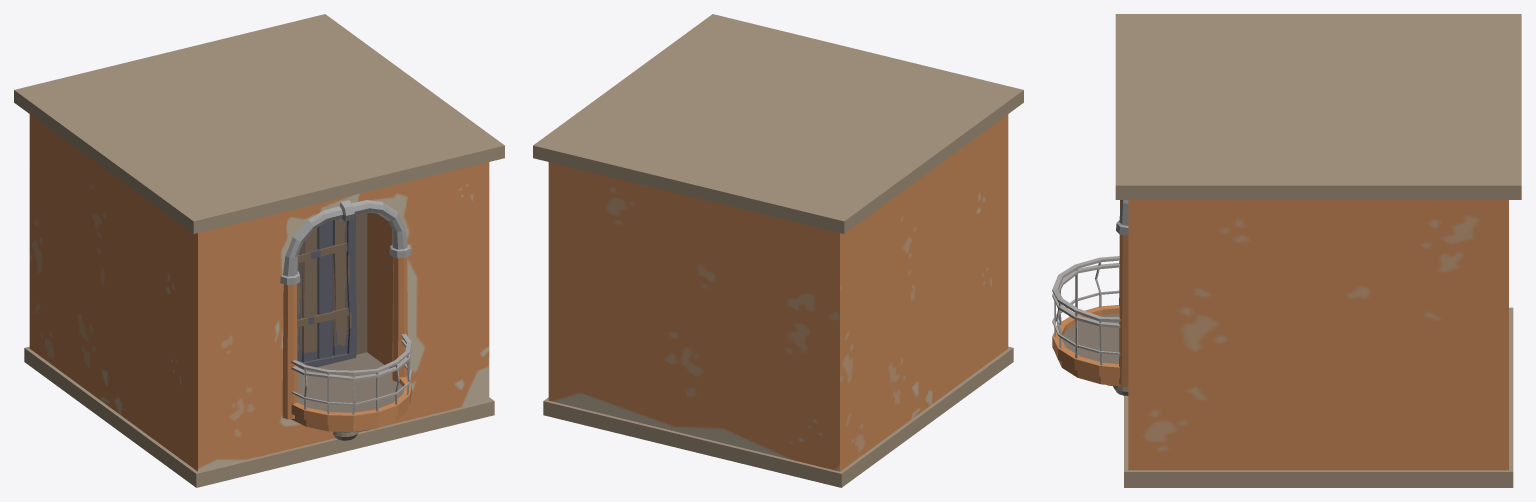
Rendered from SM_Bld_Cuba_Room_02.glb.
3 renders of one model, left to right at view 1: azimuth 30°, elevation 25°; view 2: azimuth 150°, elevation 25°; view 3: azimuth 270°, elevation 25°, orthographic. The views are drawn at different scales.
Visible parts, largest first — view 1: SM_Bld_Cuba_Room_02_part00; view 2: SM_Bld_Cuba_Room_02_part00; view 3: SM_Bld_Cuba_Room_02_part00.
Part boxes in pixels (left/top/right/bottom): SM_Bld_Cuba_Room_02_part00: left=14, top=14, right=504, bottom=487; SM_Bld_Cuba_Room_02_part00: left=533, top=14, right=1023, bottom=487; SM_Bld_Cuba_Room_02_part00: left=1052, top=14, right=1521, bottom=487.
Size of the model in its own units: 4 by 3.33 by 4.63.
Materials: 1 (1 with a texture image).
